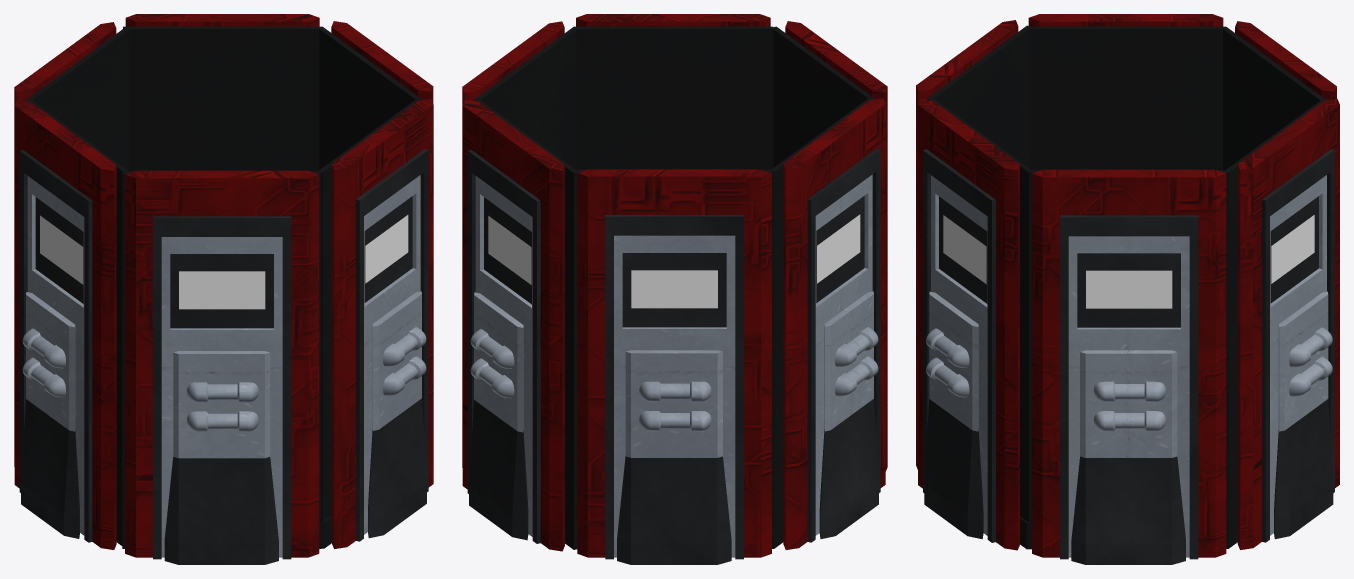
The model's file is TurretBody.fbx.
3 views of the same model, side by side, from view 1: azimuth 30°, elevation 25°; view 2: azimuth 150°, elevation 25°; view 3: azimuth 270°, elevation 25° (orthographic).
Parts seen in each view (by area): view 1: mergedBlocks; view 2: mergedBlocks; view 3: mergedBlocks.
Boxes of the visible parts, left/top/right/bottom form: mergedBlocks: left=14, top=14, right=433, bottom=564; mergedBlocks: left=462, top=14, right=887, bottom=564; mergedBlocks: left=916, top=14, right=1339, bottom=564.
Bounding box in the file's own units: 3.8 × 3.64 × 3.68.
